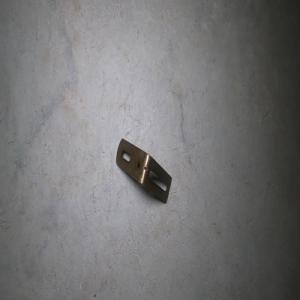MetalPart: (115, 137, 172, 204)
